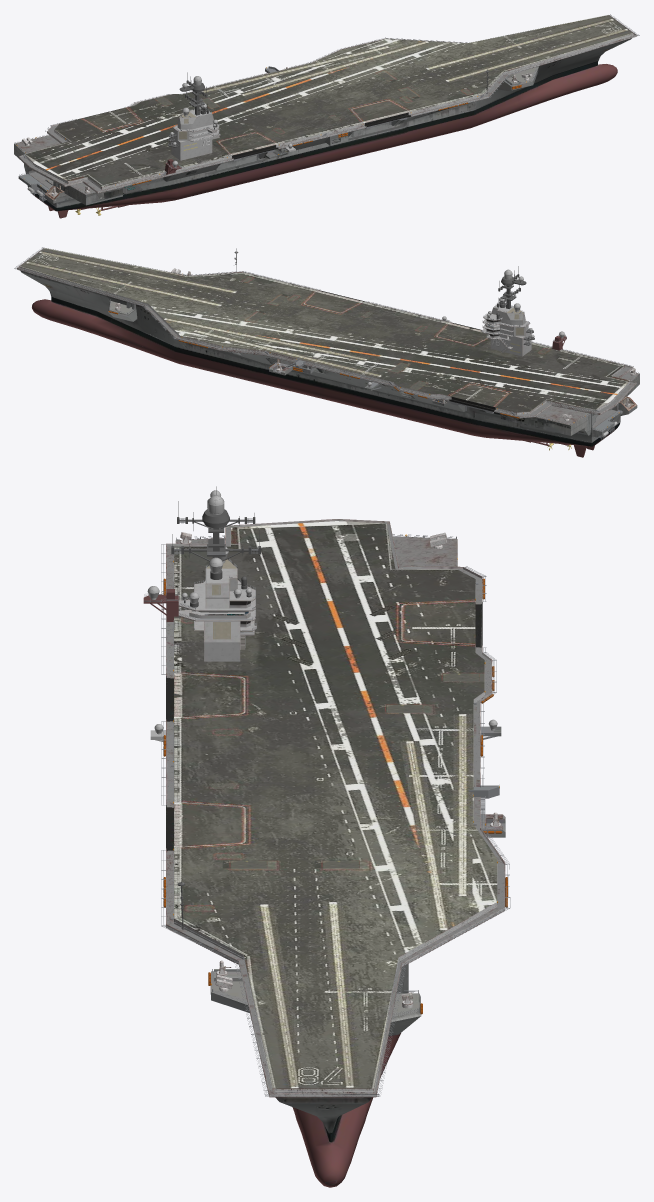
File: us-ford.glb
The picture shows the model from 3 angles, top to bottom: view 1: azimuth 30°, elevation 25°; view 2: azimuth 150°, elevation 25°; view 3: azimuth 270°, elevation 25°; orthographic projection. The views are drawn at different scales.
Parts seen in each view (by area): view 1: root; view 2: root; view 3: root.
Part boxes in pixels (left/top/right/bottom): root: left=14, top=14, right=639, bottom=218; root: left=14, top=247, right=639, bottom=457; root: left=143, top=486, right=510, bottom=1187.
Bounding box in the file's own units: 337 × 73.76 × 90.43.
Materials: 11 (10 with a texture image).
